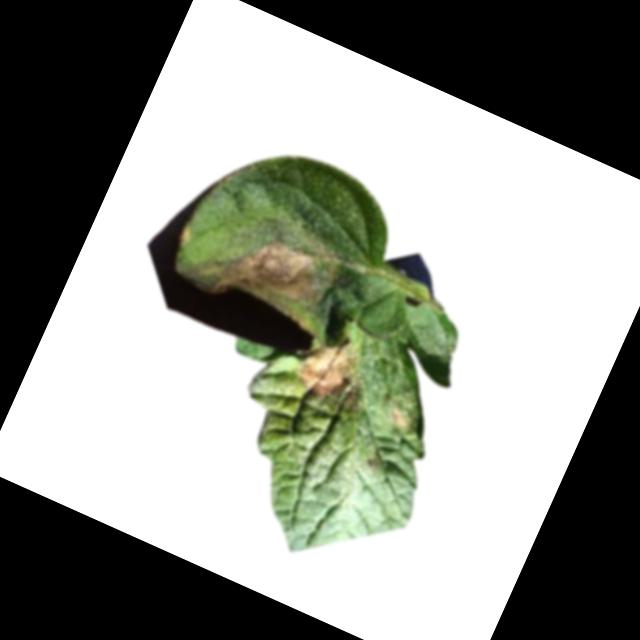Late_blight: (179, 202, 338, 334), (288, 320, 383, 417), (385, 400, 418, 435)
